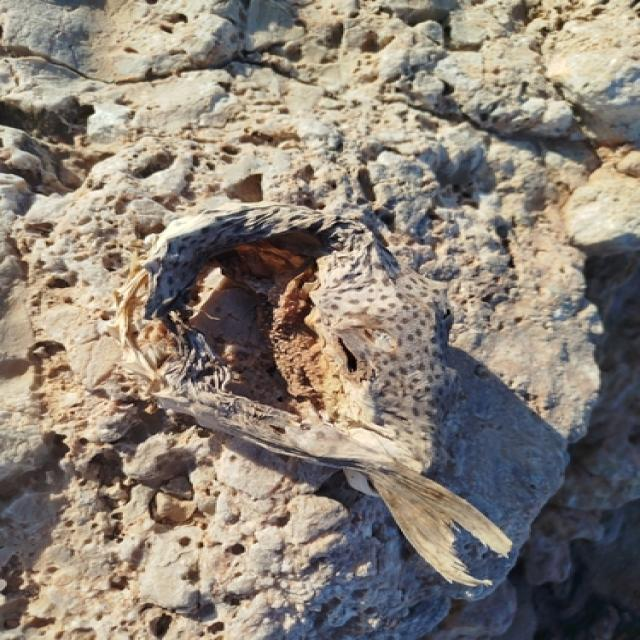Balik: (117, 204, 511, 586)
